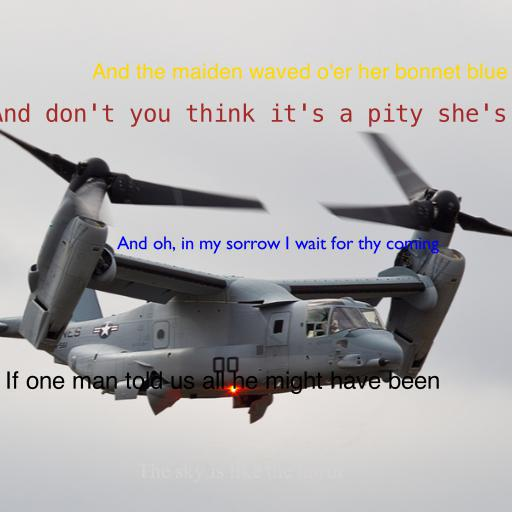Gill Sans: (117, 236, 439, 254)
Menlo: (0, 103, 512, 127)
SF Pro: (4, 371, 440, 394)
SignPainter: (92, 63, 508, 80)
Times New Roman: (137, 462, 343, 483)
